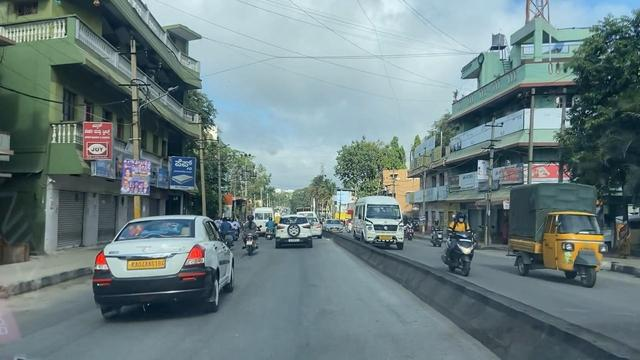LMV: (94, 219, 235, 320), (276, 217, 313, 251), (244, 215, 258, 256)
